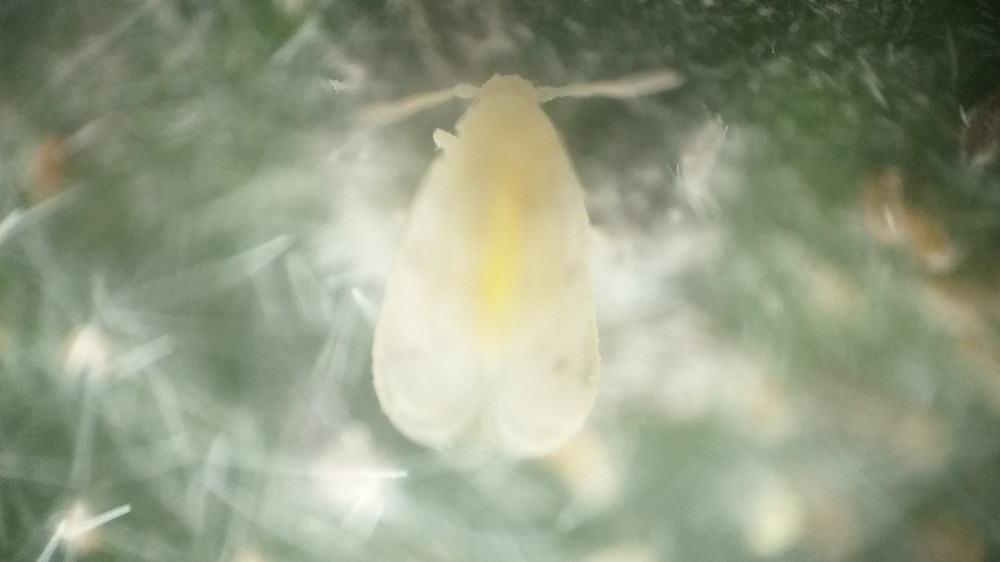Mosca Blanca: (326, 56, 705, 478)
